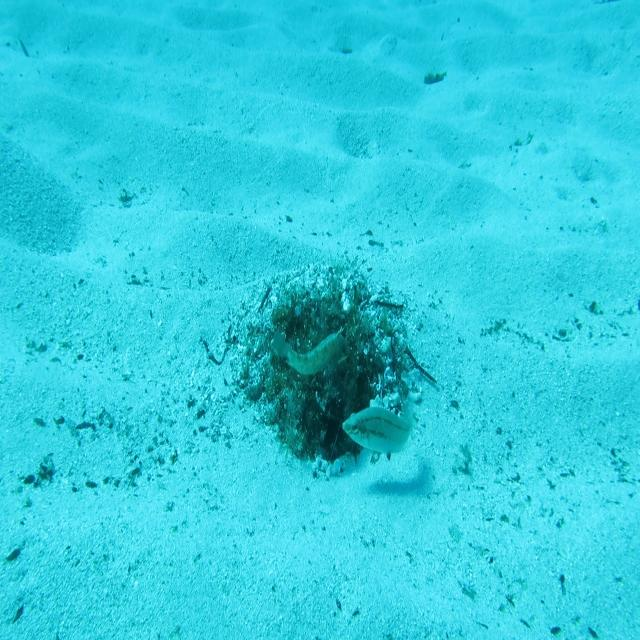ROLL: (269, 319, 352, 380)
core_nest: (300, 313, 339, 359)
female: (339, 390, 416, 462)
nest: (215, 243, 430, 498)
